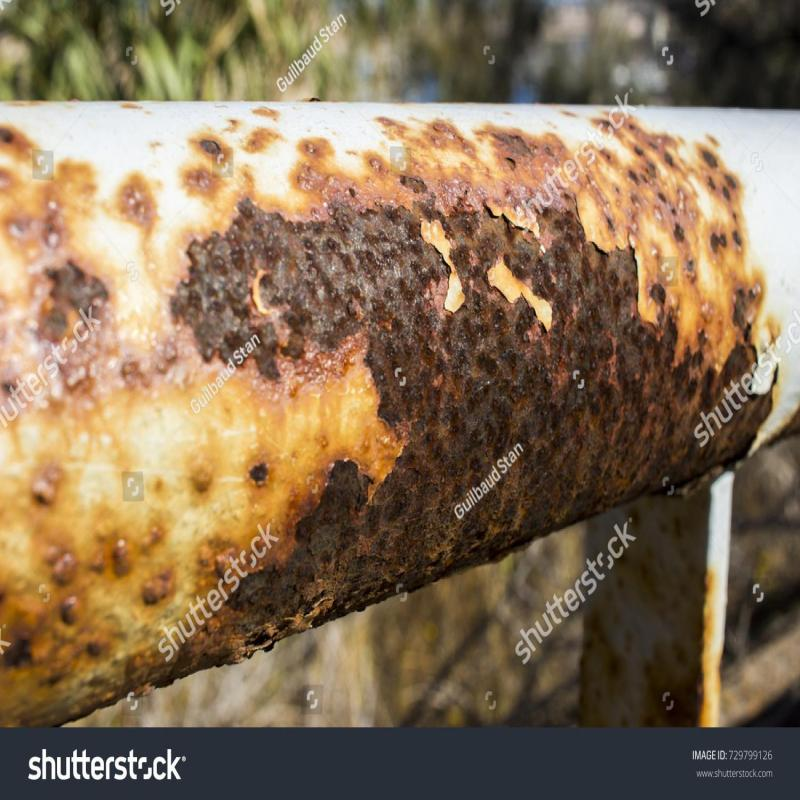corrosion: (123, 112, 798, 570)
